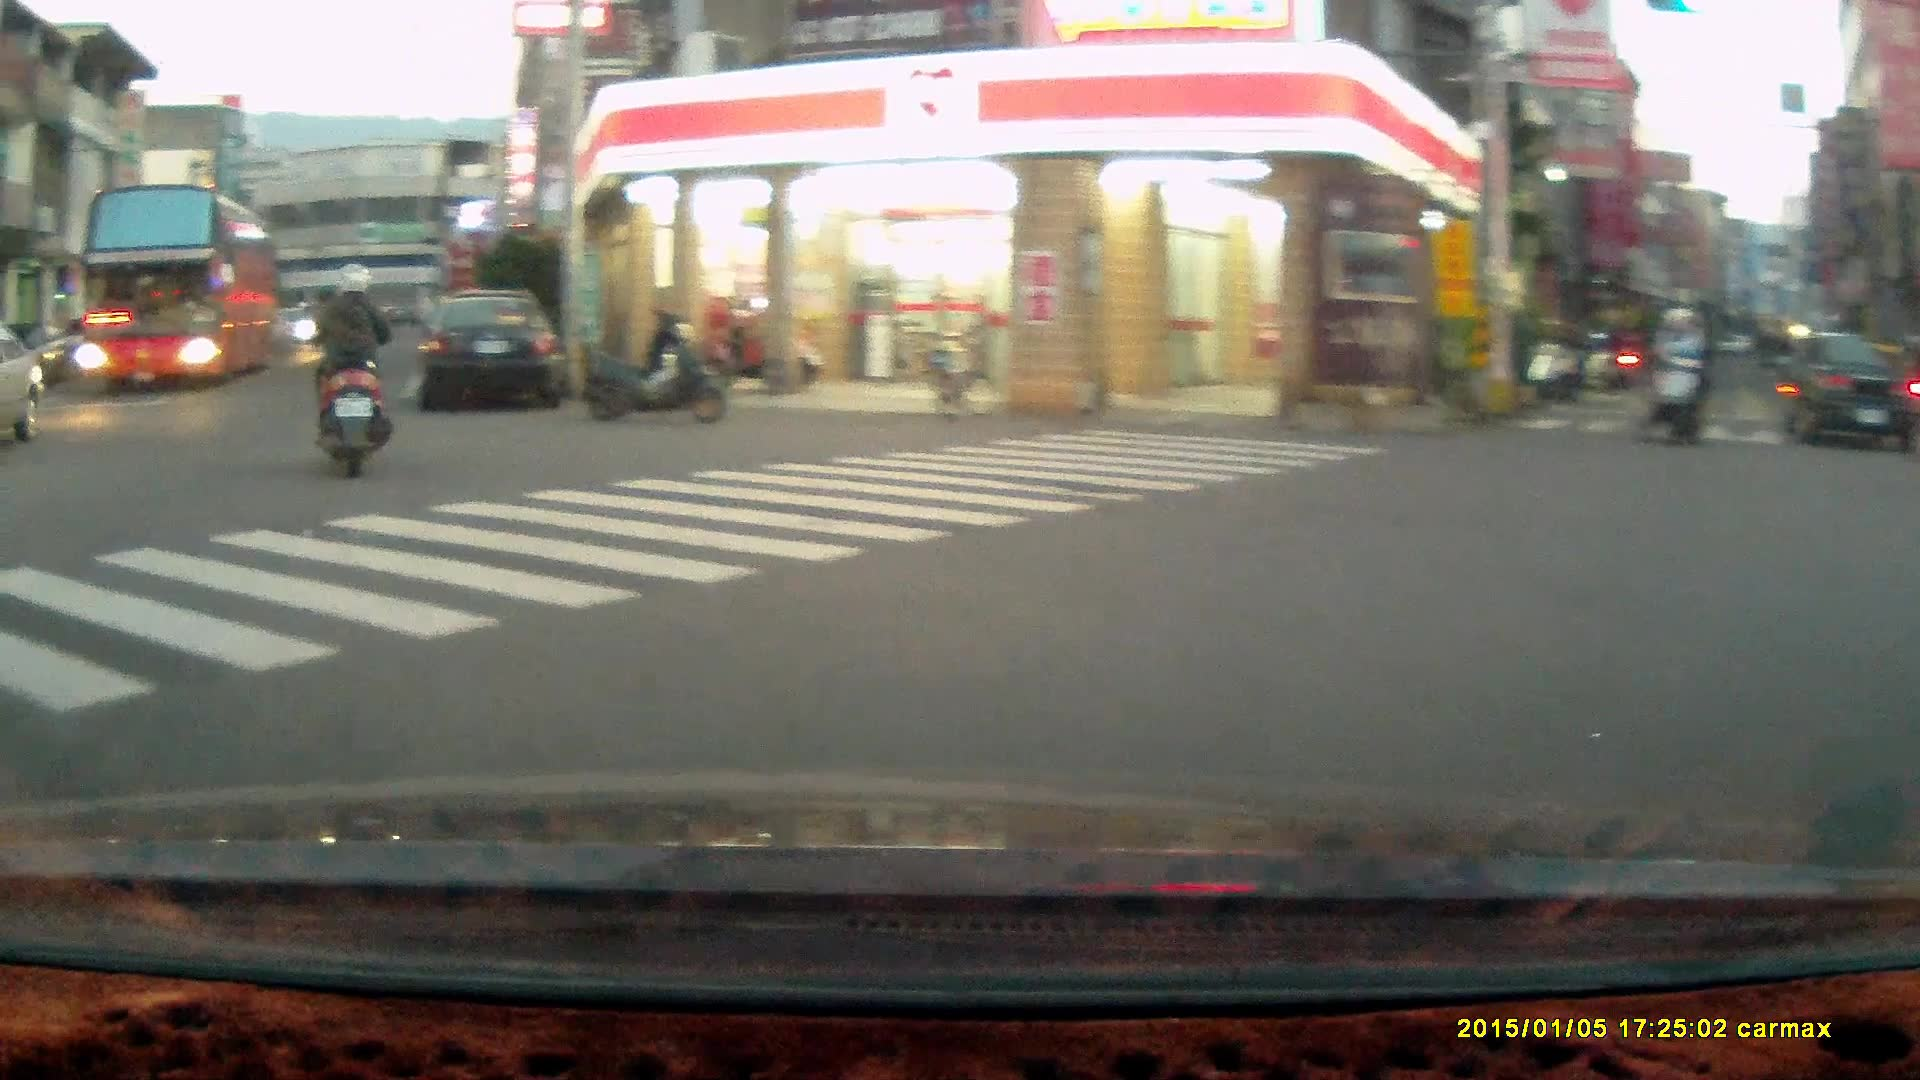rider: (303, 262, 400, 482), (1638, 304, 1709, 451)
vehicle: (77, 184, 279, 390), (414, 291, 565, 410), (1778, 335, 1916, 455)
